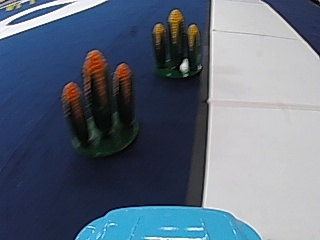corn: (60, 48, 139, 161), (149, 10, 203, 80)
